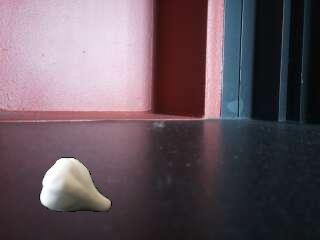Garlic: (40, 158, 112, 213)
